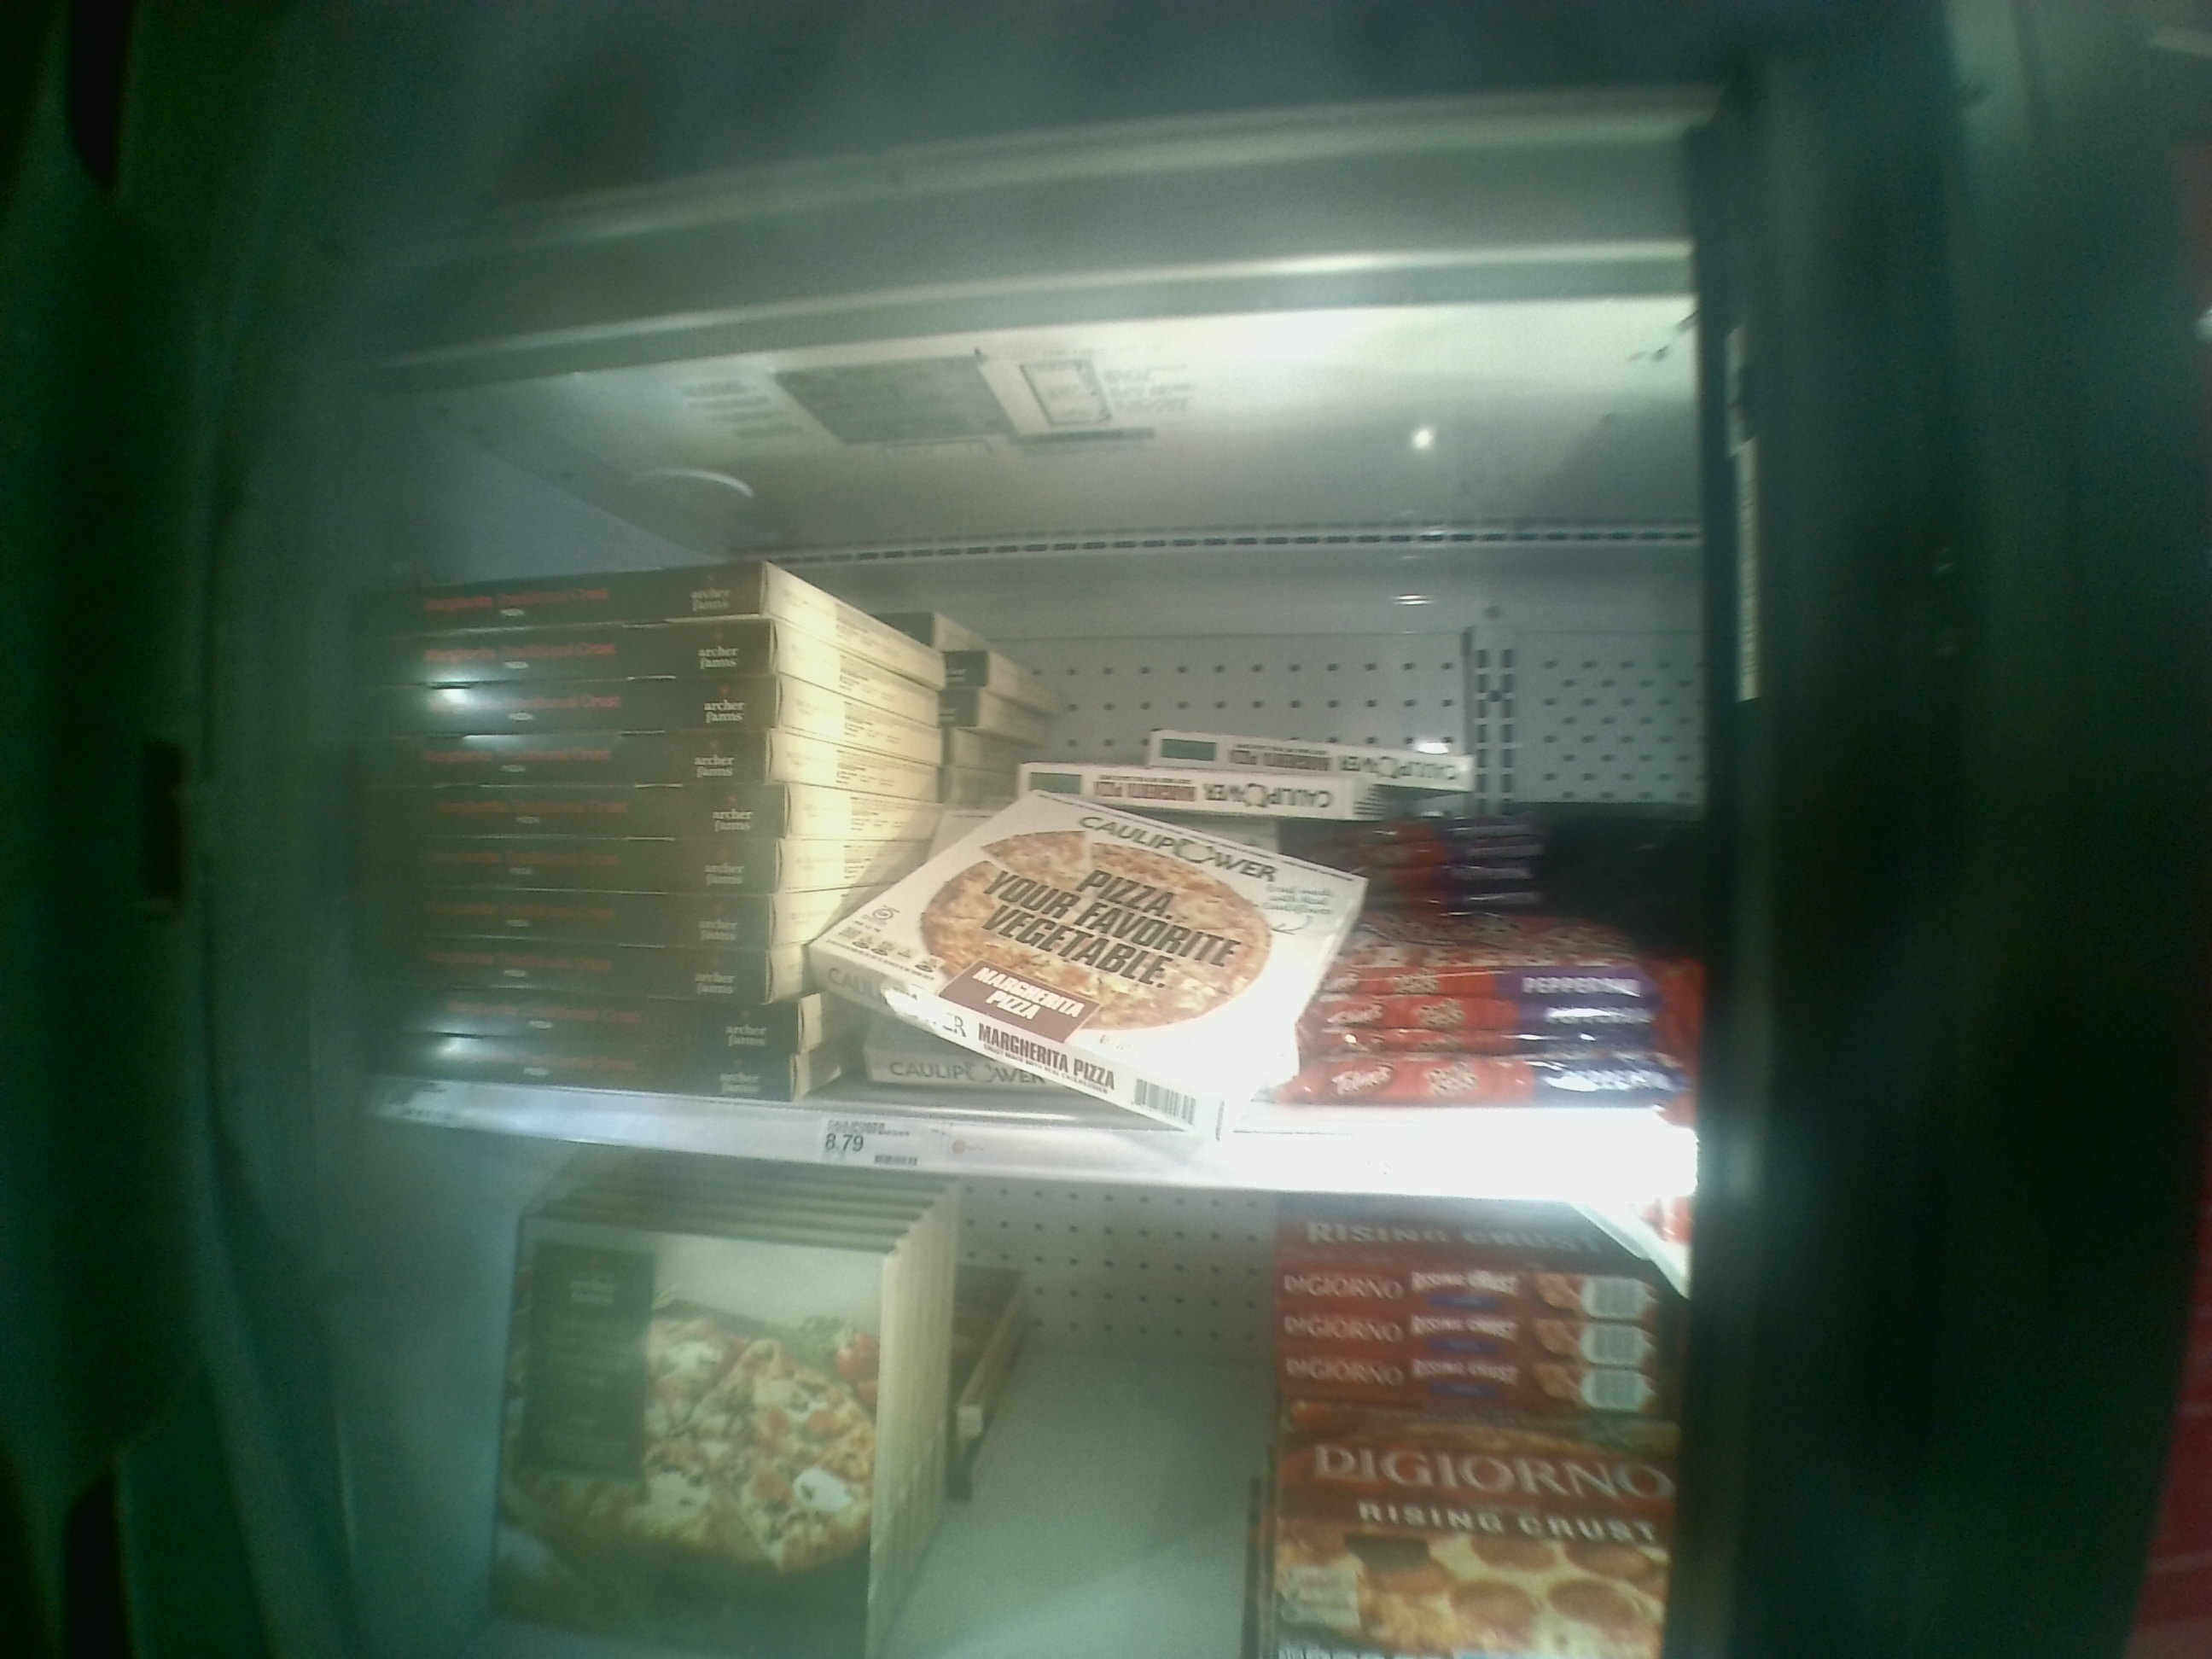shelf: (334, 256, 1806, 1223)
